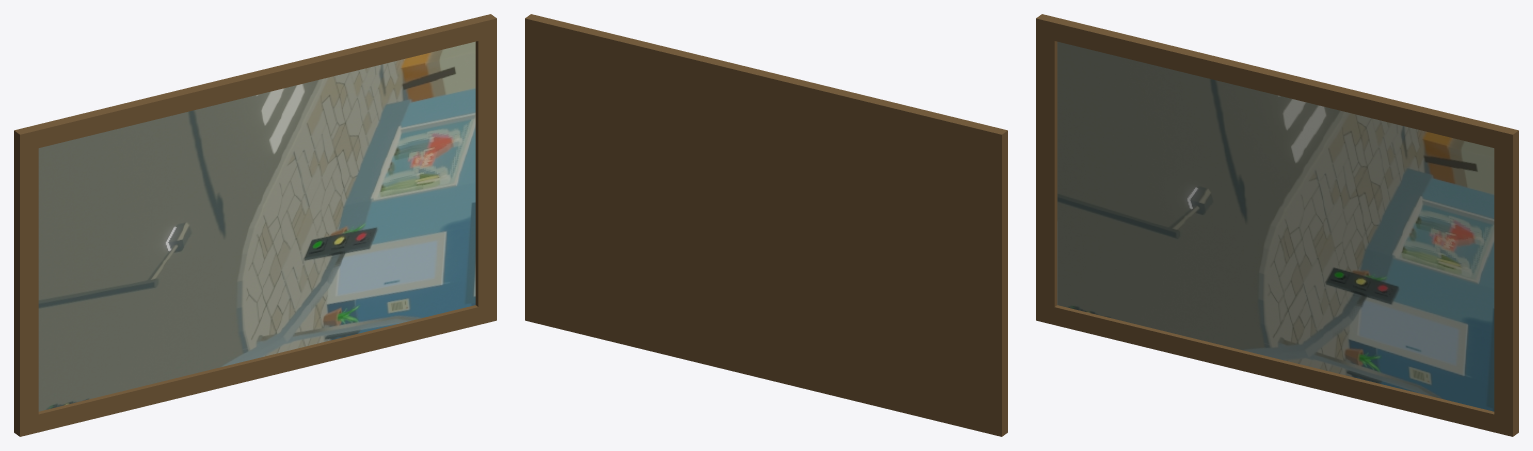
The model's file is R_Frame_2.fbx.
3 renders of one model, left to right at view 1: azimuth 30°, elevation 25°; view 2: azimuth 150°, elevation 25°; view 3: azimuth 330°, elevation 25°, orthographic.
Visible parts, largest first — view 1: R_Frame_2; view 2: R_Frame_2; view 3: R_Frame_2.
Boxes of the visible parts, x1=… form: R_Frame_2: x1=14, y1=14, x2=496, y2=436; R_Frame_2: x1=525, y1=14, x2=1007, y2=436; R_Frame_2: x1=1036, y1=14, x2=1518, y2=436.
Size of the model in its own units: 1238 by 27.26 by 750.
